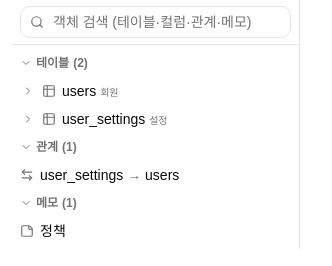
Test: ModelExplorerPanel — 검색 › 입력 즉시 필터 + 테이블 자동 펼침 + 일치 구간 하이라이트
This screenshot has width=332, height=266.
Type "user_id" into the field labelled "객체 검색" at (156, 22), box [20,6,291,38]
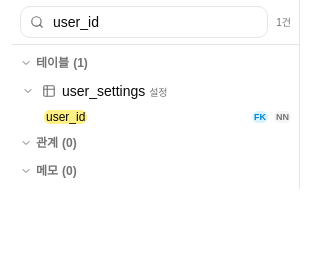
Expected: the text "user_id" is shown, [44,110,87,124]
Expected: the text with test id "explorer-match-count" reads "1건", [276,16,291,28]
Expected: the button "관계 (0)" is shown, [12,129,299,157]
